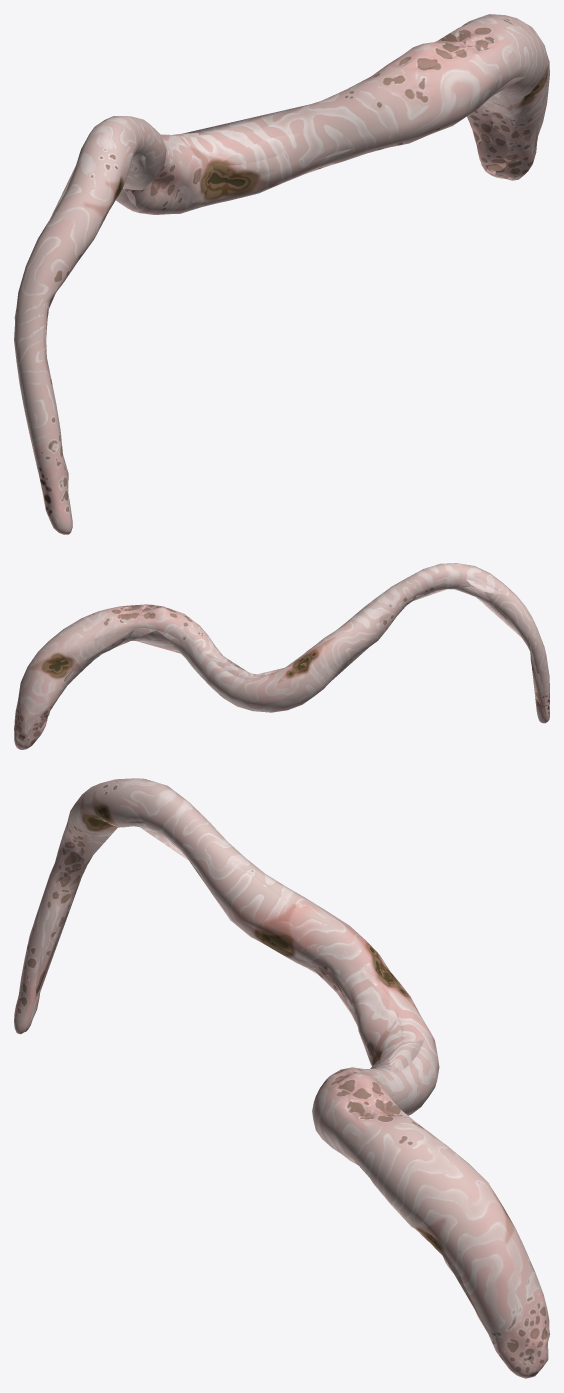
The model's file is rootSmall_2.FBX.
The picture shows the model from 3 angles, top to bottom: view 1: azimuth 30°, elevation 25°; view 2: azimuth 150°, elevation 25°; view 3: azimuth 270°, elevation 25°; orthographic projection. The views are drawn at different scales.
Visible parts, largest first — view 1: root_smal_2_LOD0, root_smal_2_COL; view 2: root_smal_2_LOD0, root_smal_2_COL; view 3: root_smal_2_LOD0, root_smal_2_COL.
Part boxes in pixels (box(x1,y1,x2,y2)): root_smal_2_LOD0: box(14, 14, 549, 534); root_smal_2_COL: box(41, 28, 545, 505); root_smal_2_LOD0: box(14, 563, 549, 749); root_smal_2_COL: box(24, 579, 545, 738); root_smal_2_LOD0: box(14, 778, 549, 1378); root_smal_2_COL: box(19, 797, 543, 1359).
Size of what is drawn, in the model's own units: 4.14 by 1.82 by 2.74.
